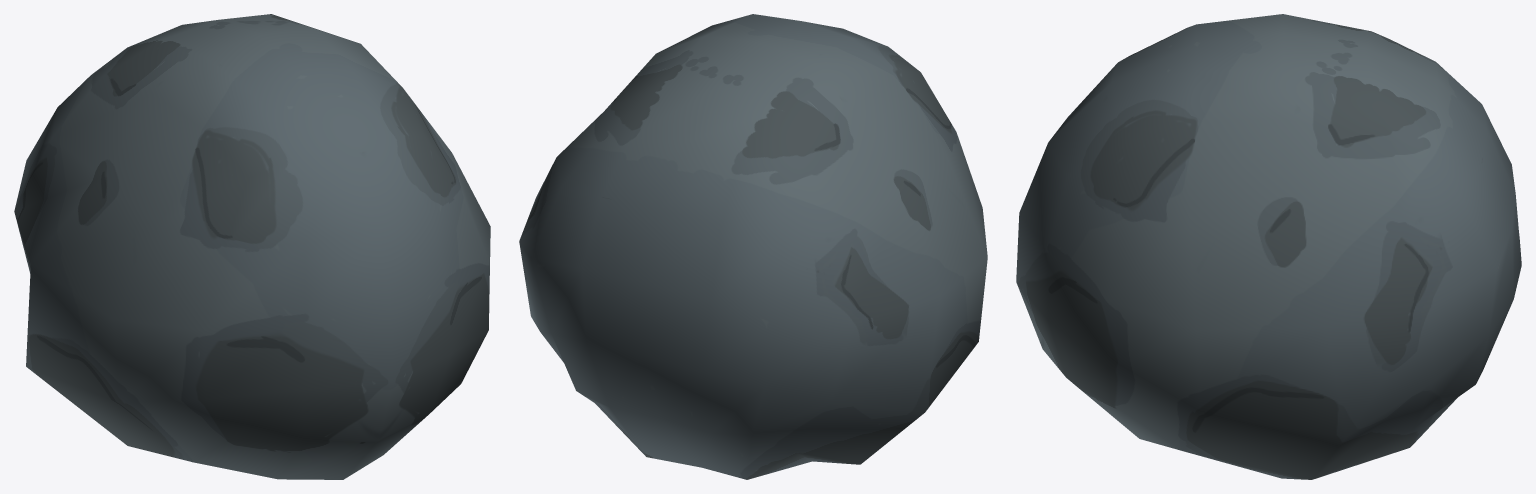
Rendered from meteorite.fbx.
3 views of the same model, side by side, from view 1: azimuth 30°, elevation 25°; view 2: azimuth 150°, elevation 25°; view 3: azimuth 270°, elevation 25° (orthographic). The views are drawn at different scales.
Visible parts, largest first — view 1: meteor_GEO; view 2: meteor_GEO; view 3: meteor_GEO.
Part boxes in pixels (bbox=[...]): meteor_GEO: bbox=[14, 14, 490, 479]; meteor_GEO: bbox=[519, 14, 987, 479]; meteor_GEO: bbox=[1016, 14, 1521, 479].
Size of the model in its own units: 2.22 by 2.16 by 2.36.
1 material, 1 textured.
